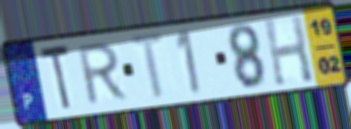1: (174, 27, 203, 97)
8: (224, 21, 268, 90)
H: (261, 13, 316, 88)
R: (76, 40, 131, 109)
T: (128, 30, 170, 104), (37, 41, 73, 115)
